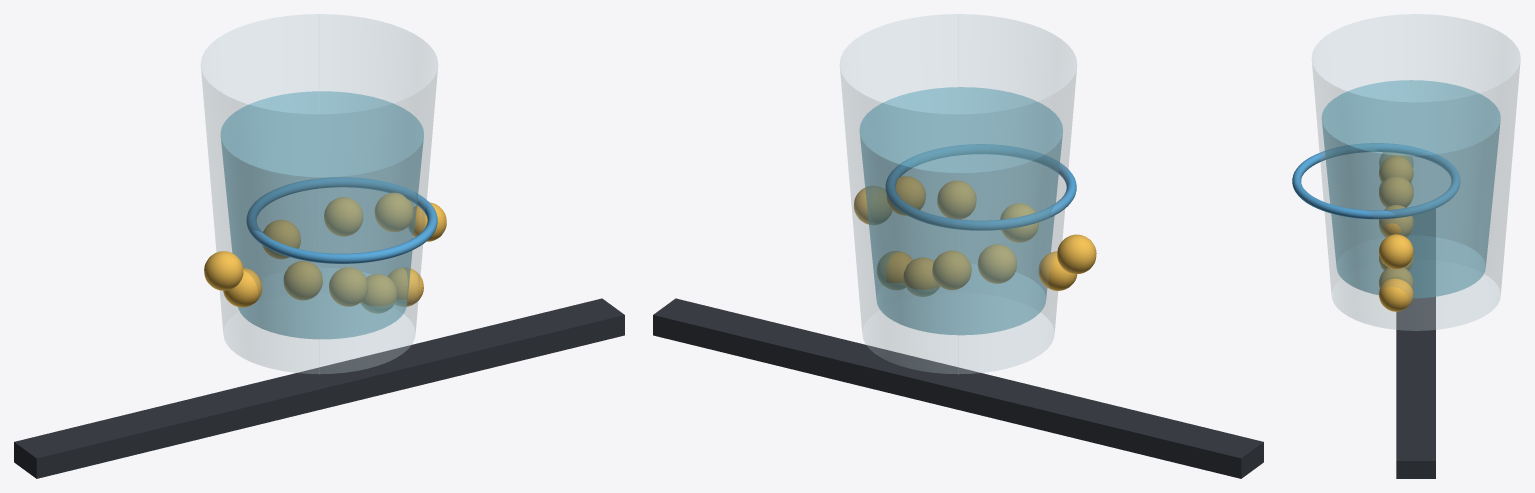
File: chem-solutions-solvent.glb
The picture shows the model from 3 angles, left to right: view 1: azimuth 30°, elevation 25°; view 2: azimuth 150°, elevation 25°; view 3: azimuth 270°, elevation 25°; orthographic projection. The views are drawn at different scales.
Parts seen in each view (by area): view 1: large-solvent-body-glass, large-solvent-body-liquid, solutions-lab-bench, solvent-surrounds-solute-shell, dissolved-small-solute-particle-5, dissolved-small-solute-particle-2, dissolved-small-solute-particle-1, dissolved-small-solute-particle-7, dissolved-small-solute-particle-8, dissolved-small-solute-particle-3, dissolved-small-solute-particle-4, dissolved-small-solute-particle-0 (+2 smaller); view 2: large-solvent-body-glass, large-solvent-body-liquid, solutions-lab-bench, solvent-surrounds-solute-shell, dissolved-small-solute-particle-5, dissolved-small-solute-particle-2, dissolved-small-solute-particle-1, dissolved-small-solute-particle-7, dissolved-small-solute-particle-9, dissolved-small-solute-particle-3, dissolved-small-solute-particle-4, dissolved-small-solute-particle-0 (+2 smaller); view 3: large-solvent-body-glass, large-solvent-body-liquid, solutions-lab-bench, solvent-surrounds-solute-shell, dissolved-small-solute-particle-9, dissolved-small-solute-particle-4, dissolved-small-solute-particle-7, dissolved-small-solute-particle-6, dissolved-small-solute-particle-8, dissolved-small-solute-particle-3.
Boxes of the visible parts, x1,y1,x2,y2 form: large-solvent-body-glass: (201,14,437,373); large-solvent-body-liquid: (220,91,423,339); solutions-lab-bench: (14,298,624,478); solvent-surrounds-solute-shell: (246,177,437,263); dissolved-small-solute-particle-5: (204,251,243,290); dissolved-small-solute-particle-2: (329,267,368,306); dissolved-small-solute-particle-1: (283,261,322,300); dissolved-small-solute-particle-7: (324,197,363,236); dissolved-small-solute-particle-8: (374,192,413,232); dissolved-small-solute-particle-3: (361,274,396,313); dissolved-small-solute-particle-4: (388,267,423,306); dissolved-small-solute-particle-0: (223,268,262,307); large-solvent-body-glass: (840,14,1076,373); large-solvent-body-liquid: (859,87,1062,335); solutions-lab-bench: (653,298,1263,478); solvent-surrounds-solute-shell: (885,144,1076,230); dissolved-small-solute-particle-5: (1057,234,1096,273); dissolved-small-solute-particle-2: (932,250,971,290); dissolved-small-solute-particle-1: (977,244,1016,283); dissolved-small-solute-particle-7: (937,180,976,219); dissolved-small-solute-particle-9: (854,186,891,224); dissolved-small-solute-particle-3: (903,257,939,296); dissolved-small-solute-particle-4: (877,251,912,289); dissolved-small-solute-particle-0: (1038,251,1077,290); large-solvent-body-glass: (1312,14,1520,330); large-solvent-body-liquid: (1321,80,1500,298); solutions-lab-bench: (1396,209,1435,478); solvent-surrounds-solute-shell: (1292,143,1460,219); dissolved-small-solute-particle-9: (1379,234,1413,269); dissolved-small-solute-particle-4: (1379,277,1413,311); dissolved-small-solute-particle-7: (1379,176,1413,207); dissolved-small-solute-particle-6: (1379,156,1413,182); dissolved-small-solute-particle-8: (1379,205,1413,236); dissolved-small-solute-particle-3: (1379,267,1413,287).
Size of what is drawn, in the model's own units: 2.4 by 1.3 by 0.918.
